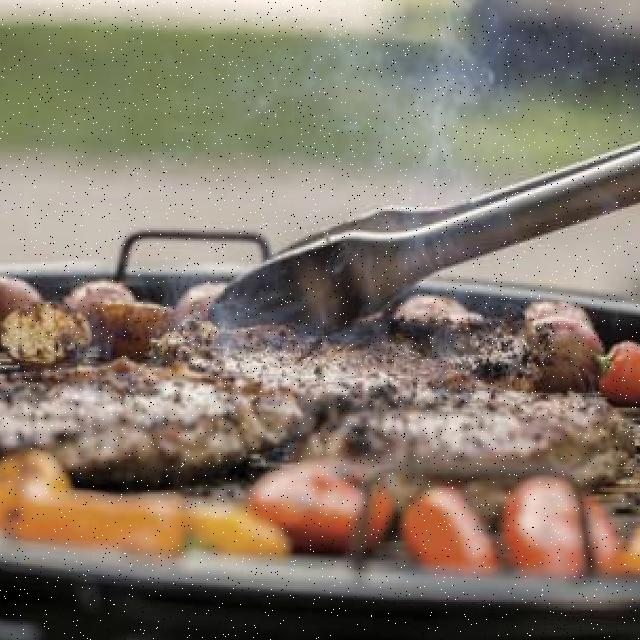smoke: (298, 0, 547, 220)
